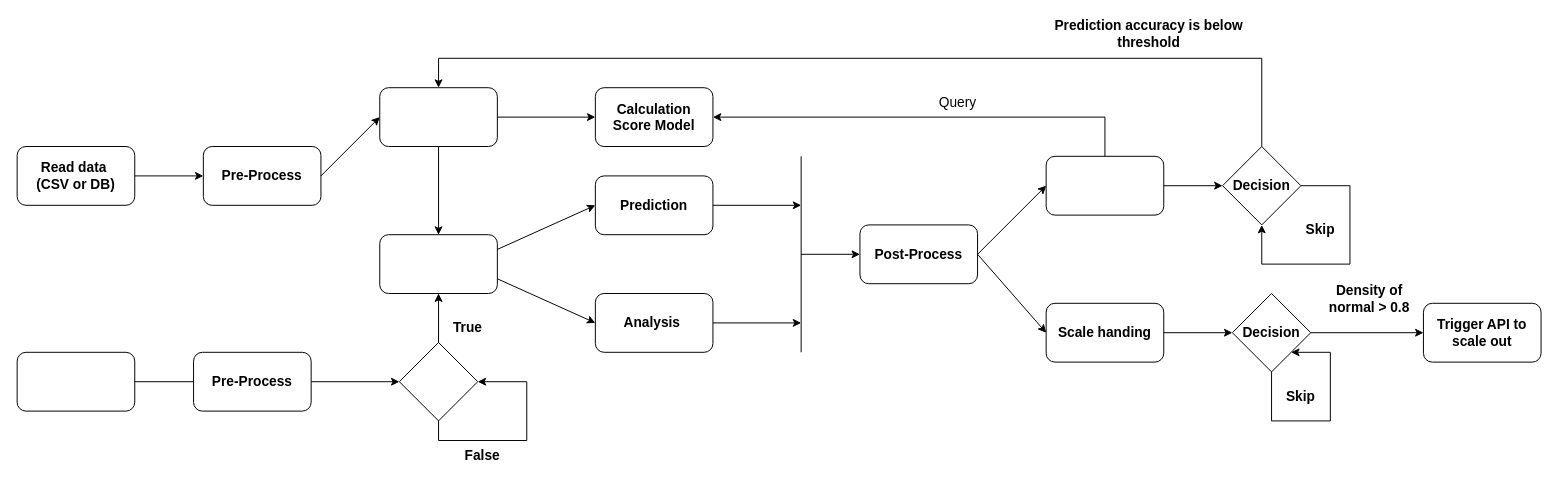
The diagram is 1558 pixels wide and 486 high, and some of its shapes have lost their labels. Each missing label, with the box of its shape:
available: (398, 342, 478, 421)
Calling Prometheus API (5s): (16, 351, 135, 411)
Predict Model: (379, 234, 497, 294)
Retrain: (1045, 155, 1164, 215)
Training model: (379, 87, 497, 147)
